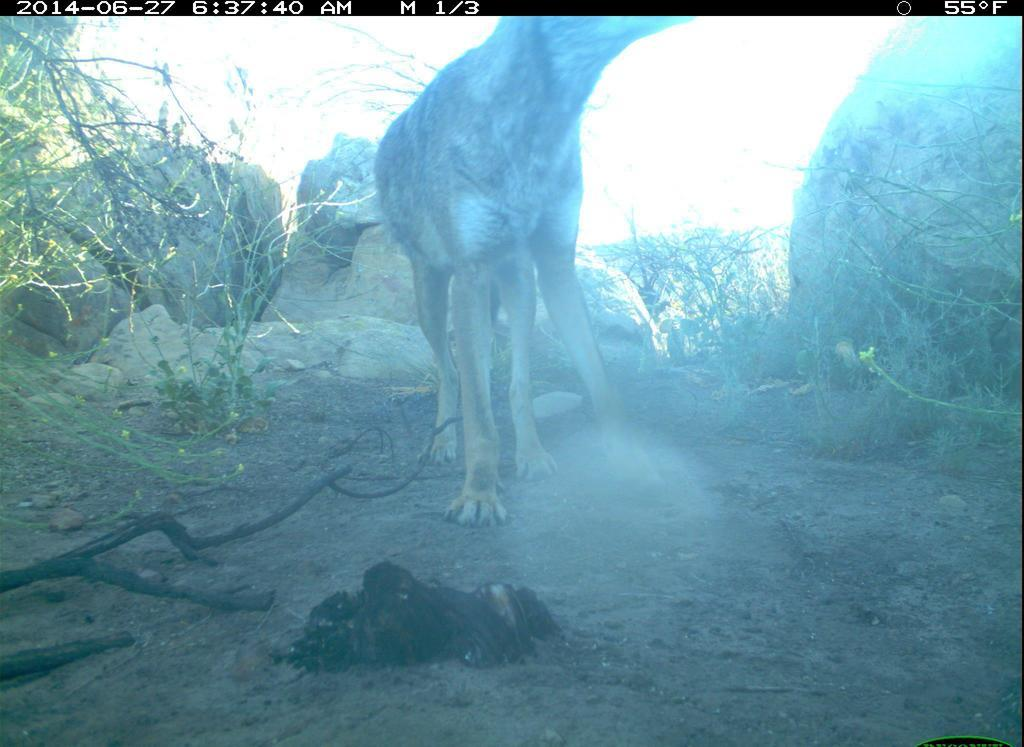coyote: (355, 17, 699, 530)
